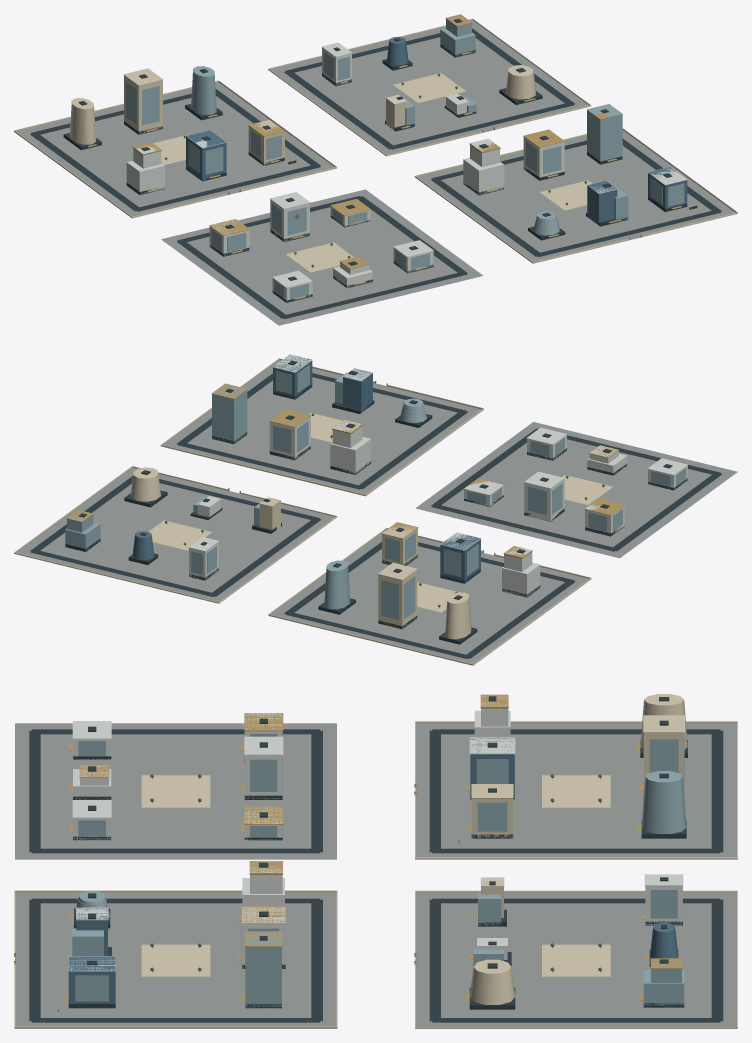
Rendered from GC-TILE-06-15.glb.
3 renders of one model, top to bottom at view 1: azimuth 30°, elevation 25°; view 2: azimuth 150°, elevation 25°; view 3: azimuth 270°, elevation 25°, orthographic. The views are drawn at different scales.
Visible parts, largest first — view 1: GC-TILE-06-15-paving, GC-TILE-06-15-dark, GC-TILE-06-15-ivory, GC-TILE-06-15-glass, GC-TILE-06-15-white, GC-TILE-06-15-blue, GC-TILE-06-15-gold; view 2: GC-TILE-06-15-paving, GC-TILE-06-15-dark, GC-TILE-06-15-ivory, GC-TILE-06-15-glass, GC-TILE-06-15-white, GC-TILE-06-15-blue, GC-TILE-06-15-gold; view 3: GC-TILE-06-15-paving, GC-TILE-06-15-dark, GC-TILE-06-15-ivory, GC-TILE-06-15-glass, GC-TILE-06-15-white, GC-TILE-06-15-gold, GC-TILE-06-15-blue.
Boxes of the visible parts, x1,y1,x2,y2 form: GC-TILE-06-15-paving: (16, 20, 735, 325); GC-TILE-06-15-dark: (30, 19, 721, 318); GC-TILE-06-15-ivory: (14, 18, 737, 272); GC-TILE-06-15-glass: (126, 15, 684, 299); GC-TILE-06-15-white: (123, 42, 687, 302); GC-TILE-06-15-blue: (186, 36, 687, 225); GC-TILE-06-15-gold: (87, 14, 697, 299); GC-TILE-06-15-paving: (16, 360, 737, 663); GC-TILE-06-15-dark: (30, 360, 722, 658); GC-TILE-06-15-ivory: (14, 358, 612, 665); GC-TILE-06-15-glass: (65, 365, 685, 619); GC-TILE-06-15-white: (188, 354, 687, 597); GC-TILE-06-15-blue: (132, 355, 480, 583); GC-TILE-06-15-gold: (66, 380, 625, 627); GC-TILE-06-15-paving: (15, 723, 736, 1026); GC-TILE-06-15-dark: (29, 696, 723, 1022); GC-TILE-06-15-ivory: (14, 694, 737, 1028); GC-TILE-06-15-glass: (72, 731, 686, 1008); GC-TILE-06-15-white: (68, 695, 684, 971); GC-TILE-06-15-gold: (14, 694, 682, 1011); GC-TILE-06-15-blue: (68, 738, 678, 1008).
Size of the model in its own units: 759 by 80.02 by 760.
